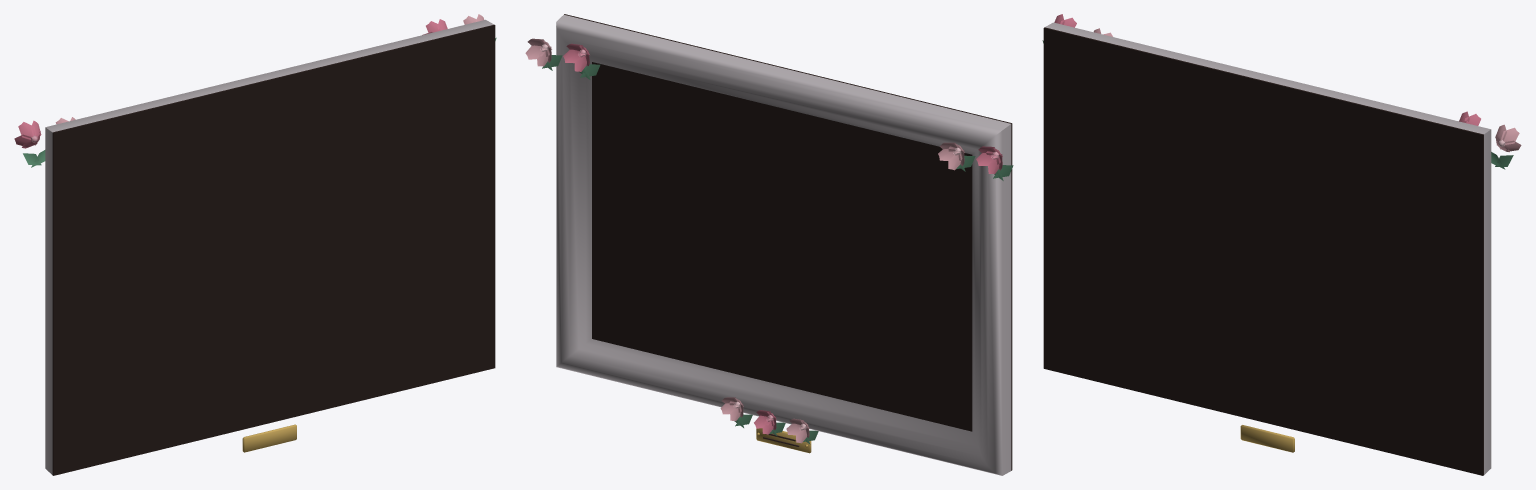
The model's file is pearl_roses_land.glb.
3 views of the same model, side by side, from view 1: azimuth 30°, elevation 25°; view 2: azimuth 150°, elevation 25°; view 3: azimuth 330°, elevation 25° (orthographic).
Visible parts, largest first — view 1: pearl_roses_land; view 2: pearl_roses_land; view 3: pearl_roses_land.
Boxes of the visible parts, box(x1,y1,x2,y2) form: pearl_roses_land: box(14, 14, 496, 475); pearl_roses_land: box(525, 14, 1013, 475); pearl_roses_land: box(1042, 14, 1521, 475).
Size of what is drawn, in the model's own units: 1.23 by 0.919 by 0.1094.
